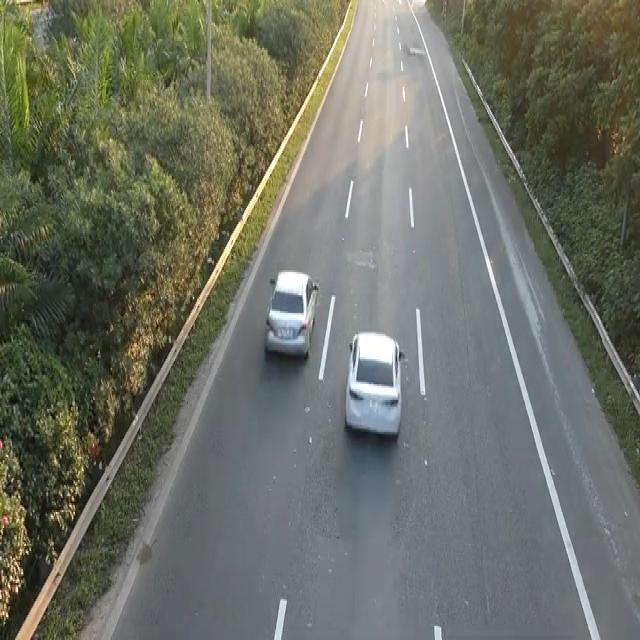bus: (342, 325, 405, 439), (262, 265, 320, 361)
